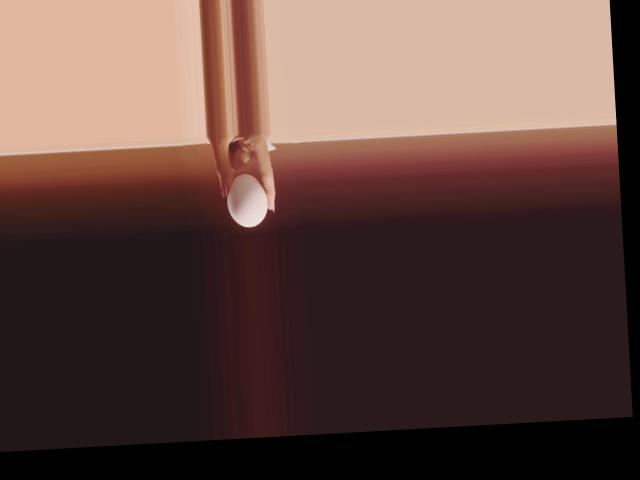egg: (224, 171, 268, 227)
